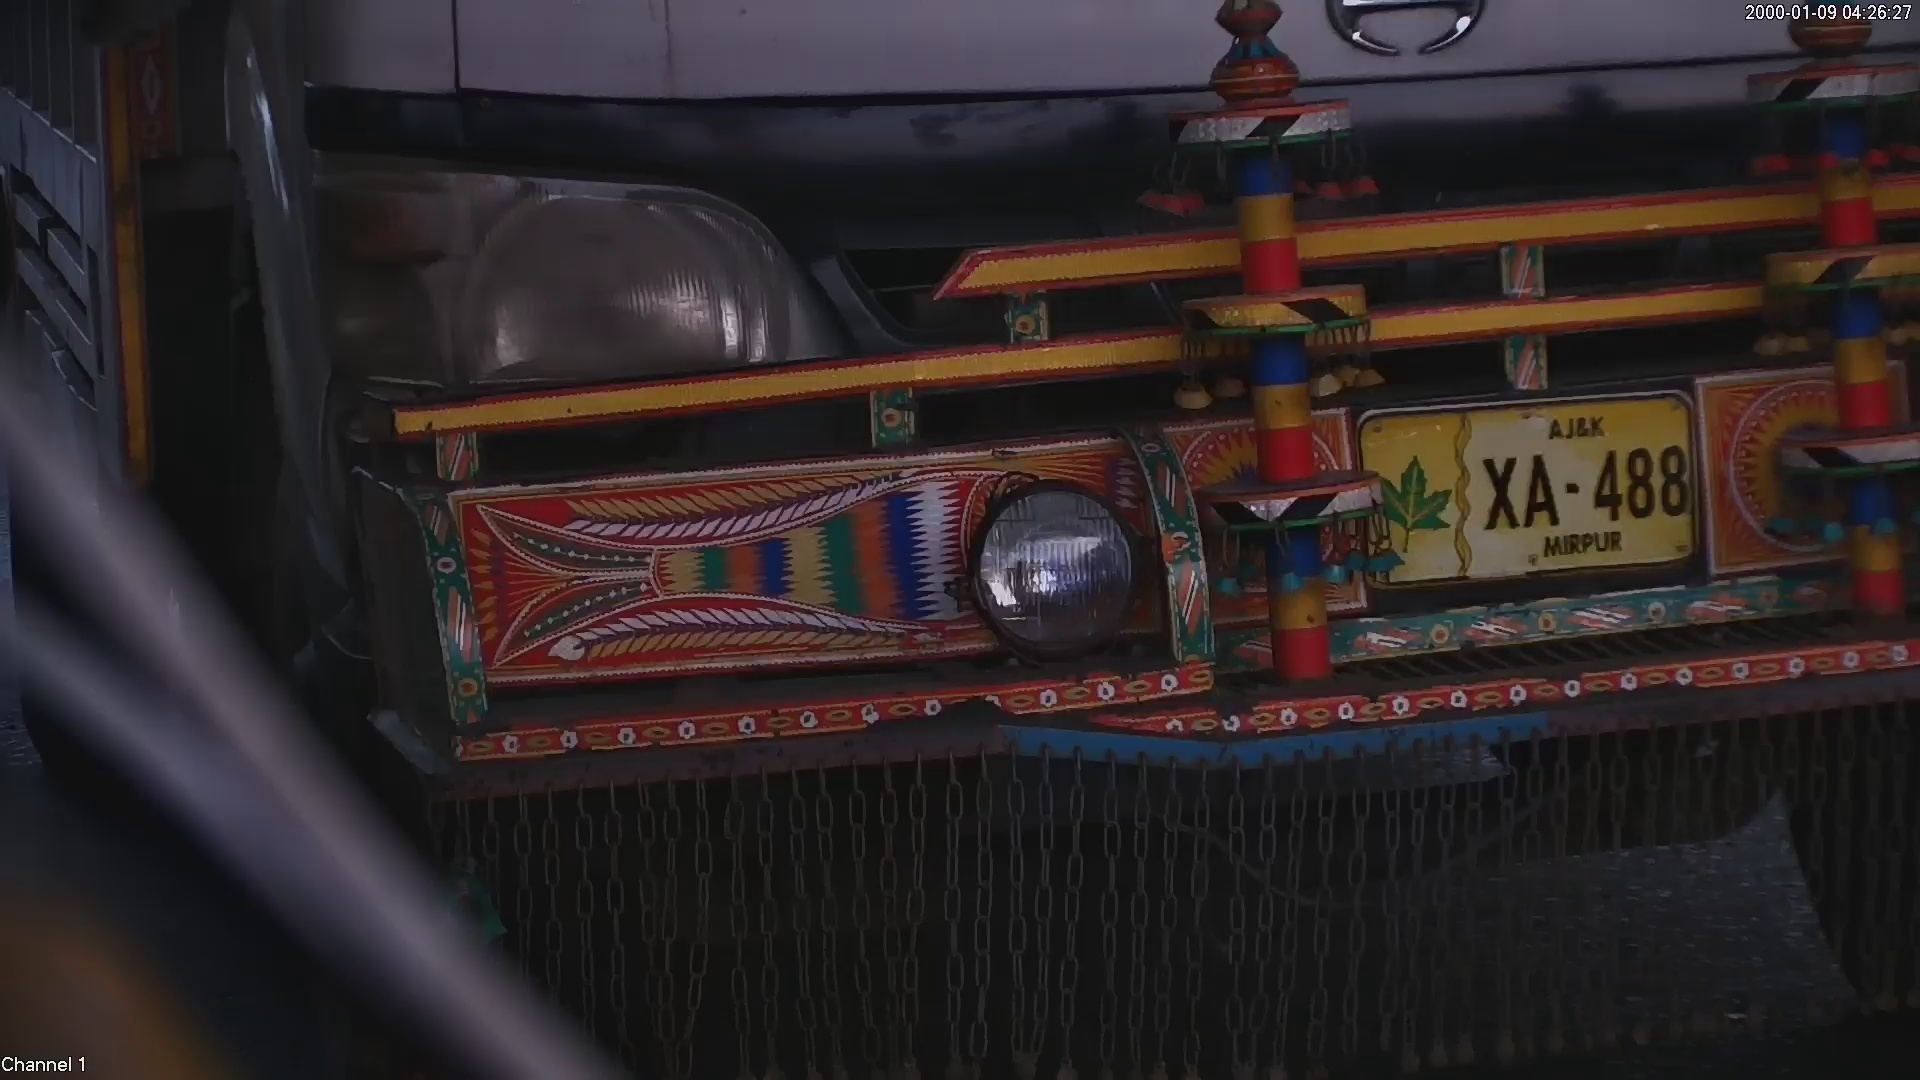Number_Plate: (1326, 364, 1737, 607)
